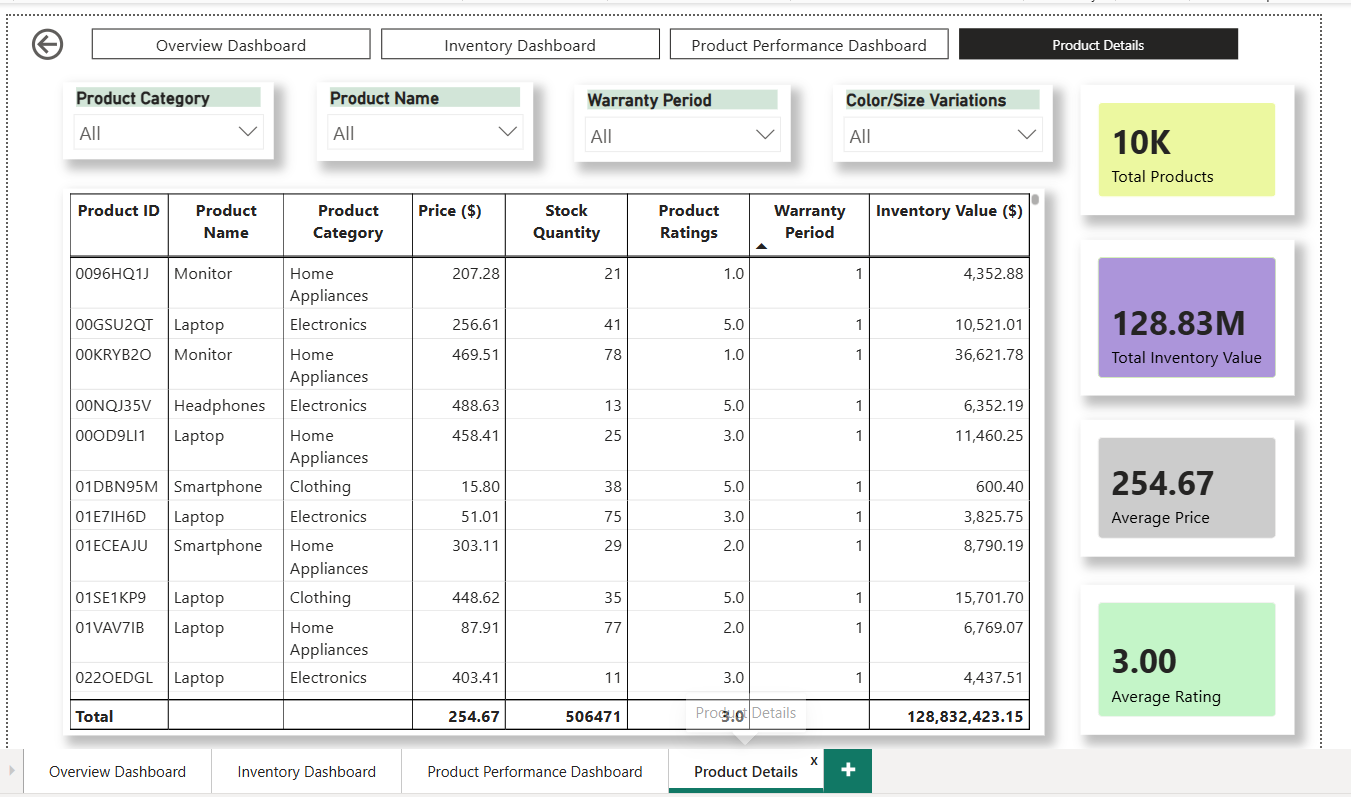

Layout of this report page (visuals, bound fields, positions):
{"tool":"powerbi","page":{"name":"Product Details","canvas":[1280,720],"ordinal":3},"visuals":[{"type":"pageNavigator","box":[81.2,11.6,1121.7,30.4],"z":0},{"type":"actionButton","box":[18.8,7.2,47.8,40.6],"z":1000},{"type":"tableEx","fields":{"Values":["products.Product ID","products.Product Name","products.Product Category","products.Average Price","Sum(products.Stock Quantity)","Avg(products.Product Ratings)","products.Warranty Period","Sum(products.Inventory Value)"]},"box":[53.6,168.1,958,533.3],"z":2000},{"type":"slicer","fields":{"Values":["products.Product Category"]},"box":[53.6,65.2,205.8,75.4],"z":3000},{"type":"slicer","fields":{"Values":["products.Product Name"]},"box":[301.4,65.2,211.6,76.8],"z":4000},{"type":"slicer","fields":{"Values":["products.Warranty Period"]},"box":[552.2,66.7,211.6,75.4],"z":5000},{"type":"slicer","fields":{"Values":["products.Color/Size Variations"]},"box":[804.3,66.7,214.5,75.4],"z":6000},{"type":"cardVisual","fields":{"Data":["products.Total Products"]},"box":[1046.4,66.7,208.7,127.5],"z":7000},{"type":"cardVisual","fields":{"Data":["products.Average Price"]},"box":[1046.4,394.2,208.7,133.3],"z":8000},{"type":"cardVisual","fields":{"Data":["products.Average Rating"]},"box":[1046.4,555.1,208.7,146.4],"z":9000},{"type":"cardVisual","fields":{"Data":["products.Total Inventory Value"]},"box":[1046.4,218.8,208.7,152.2],"z":10000}]}

Visuals, with their boxes on the page's 1280x720 design canvas (x1, y1, x2, y2). These are canvas units, not pixel positions in the 1351x797 screenshot, which may show the page scaled, cropped or inside an application window:
pageNavigator: [left=81, top=12, right=1203, bottom=42]
actionButton: [left=19, top=7, right=67, bottom=48]
tableEx - products.Product ID x products.Product Name: [left=54, top=168, right=1012, bottom=701]
slicer - products.Product Category: [left=54, top=65, right=259, bottom=141]
slicer - products.Product Name: [left=301, top=65, right=513, bottom=142]
slicer - products.Warranty Period: [left=552, top=67, right=764, bottom=142]
slicer - products.Color/Size Variations: [left=804, top=67, right=1019, bottom=142]
cardVisual - products.Total Products: [left=1046, top=67, right=1255, bottom=194]
cardVisual - products.Average Price: [left=1046, top=394, right=1255, bottom=528]
cardVisual - products.Average Rating: [left=1046, top=555, right=1255, bottom=702]
cardVisual - products.Total Inventory Value: [left=1046, top=219, right=1255, bottom=371]
